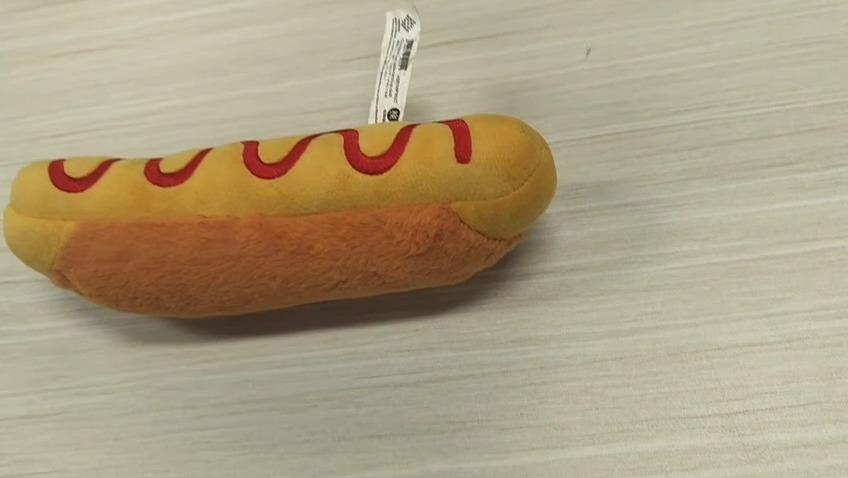hotdog: (3, 110, 558, 320)
